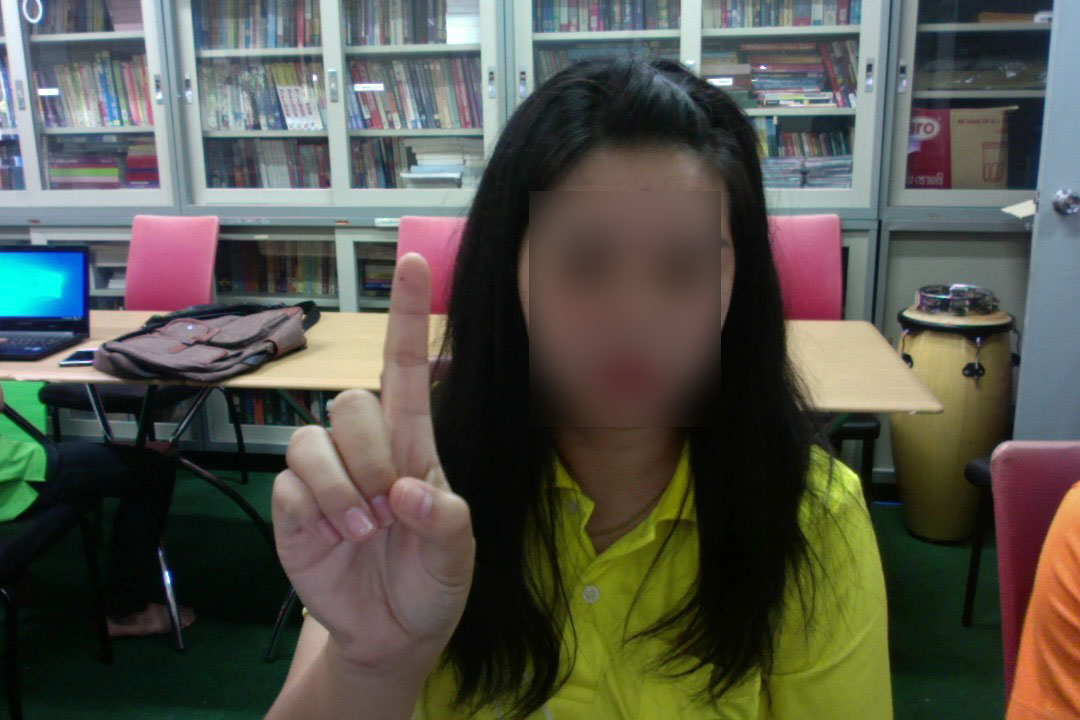dor: (271, 240, 482, 673)
